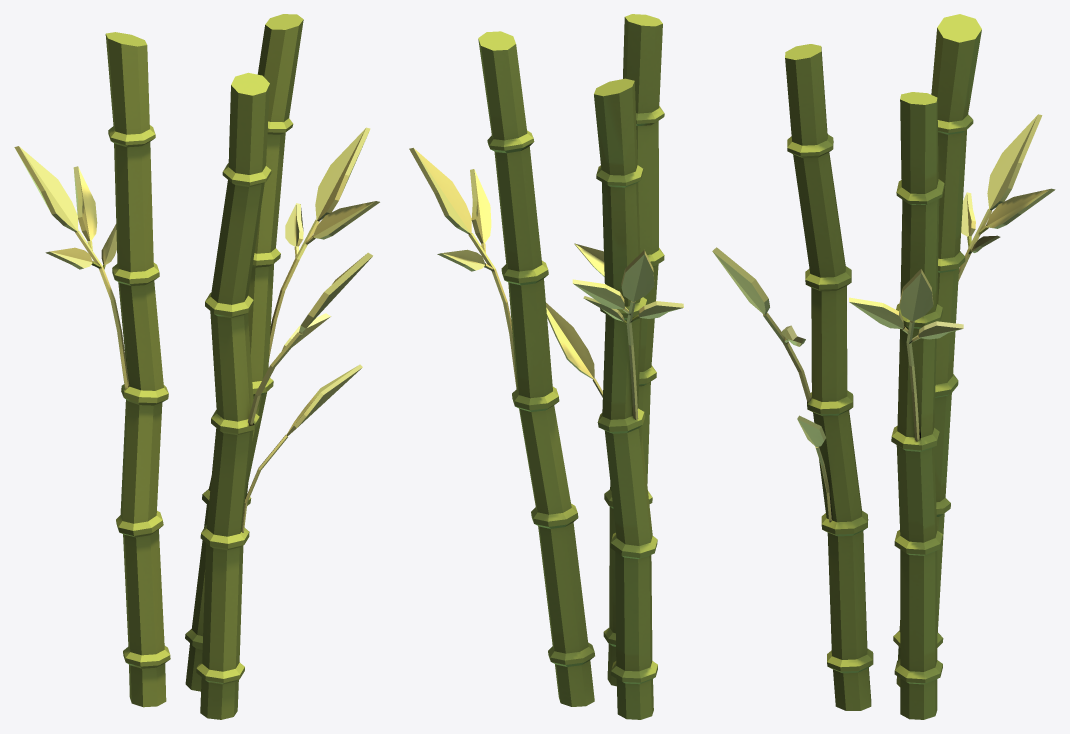
3 views of the same model, side by side, from view 1: azimuth 30°, elevation 25°; view 2: azimuth 150°, elevation 25°; view 3: azimuth 270°, elevation 25° (orthographic). The views are drawn at different scales.
Parts seen in each view (by area): view 1: bamboo; view 2: bamboo; view 3: bamboo.
Part boxes in pixels (x1,y1,x2,y2): bamboo: (14,14,379,719); bamboo: (409,14,683,719); bamboo: (712,14,1055,719).
Bounding box in the file's own units: 0.8978 × 1.85 × 0.873.
Materials: 1 (1 with a texture image).
